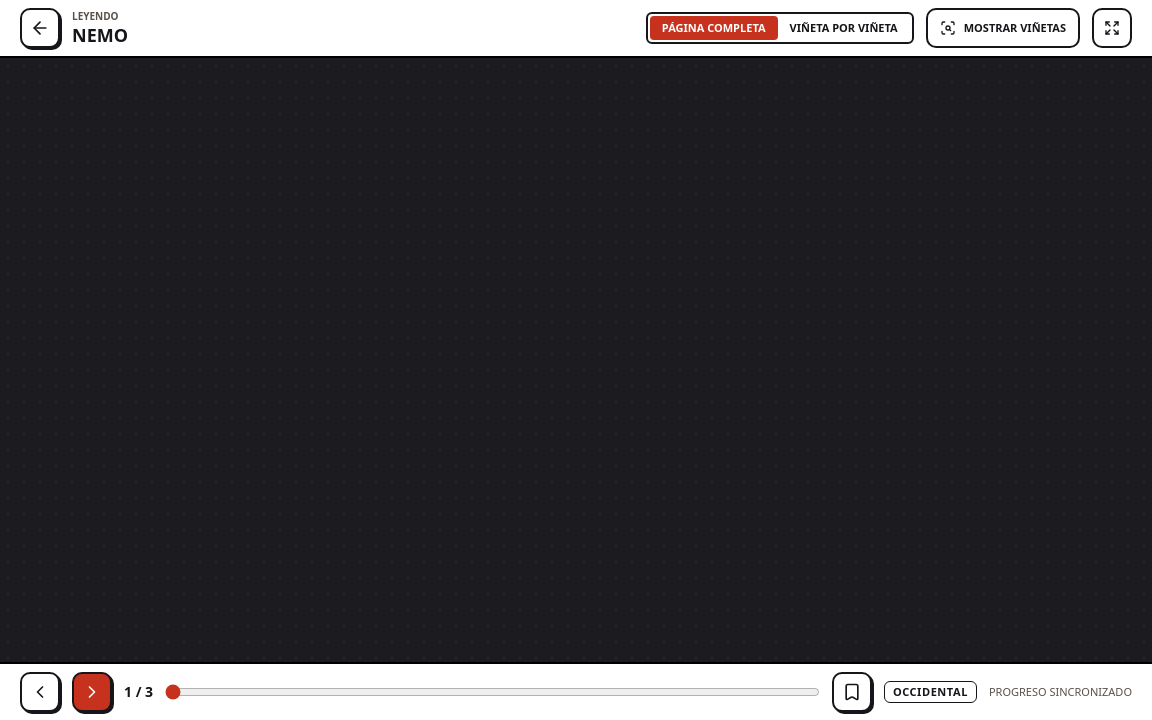
Reader › cambia al modo viñeta por viñeta
This screenshot has width=1152, height=720.
Click the button "Viñeta por viñeta". click: coordinates (844, 28)
box: [778, 16, 910, 40]
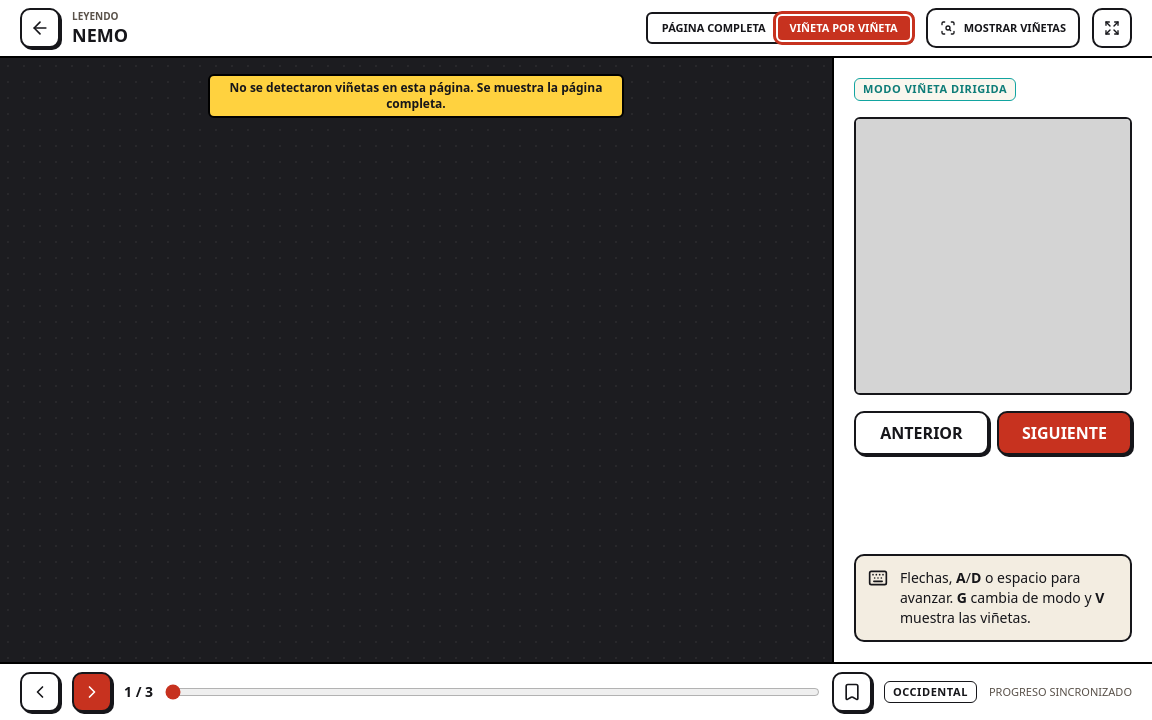
Now the element named "Viñeta por viñeta" is shown, box [832, 58, 1151, 662]
